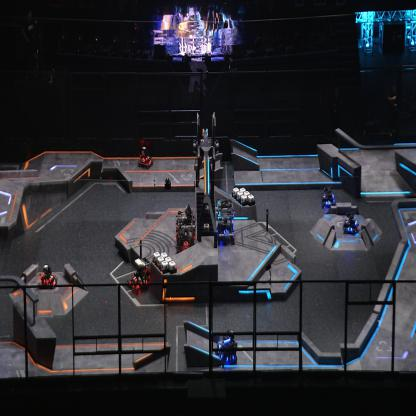car: (174, 210, 196, 256), (126, 256, 152, 294), (214, 329, 238, 367), (216, 198, 235, 244), (38, 264, 58, 288), (343, 210, 359, 236), (137, 146, 153, 169), (320, 185, 336, 208)
